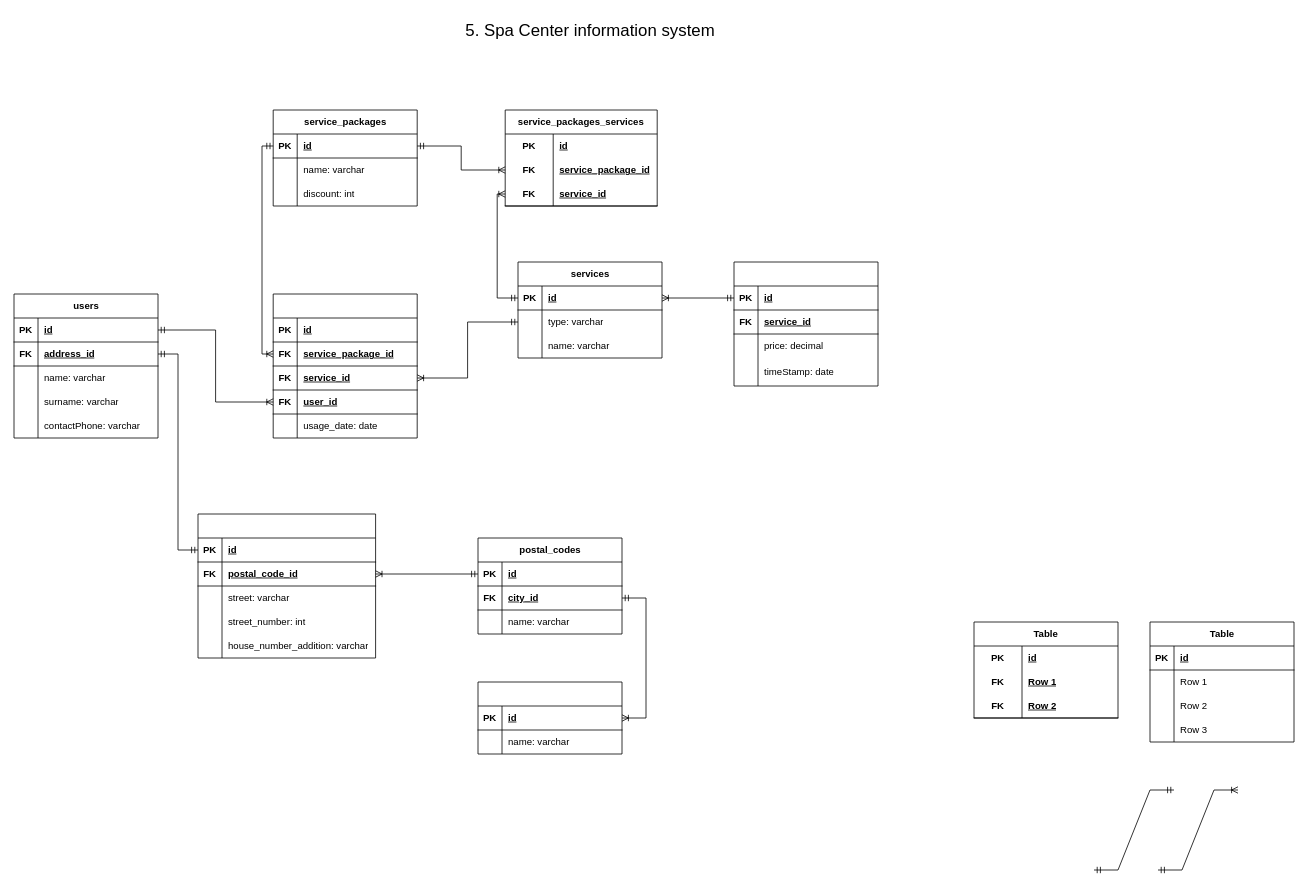
This 1308x891 diagram has some shape labels left out. Each missing label, with the box of its shape:
addresses: (197, 513, 376, 658)
cities: (477, 681, 622, 754)
pricelist_history: (733, 261, 878, 386)
service_usages: (272, 293, 417, 438)
